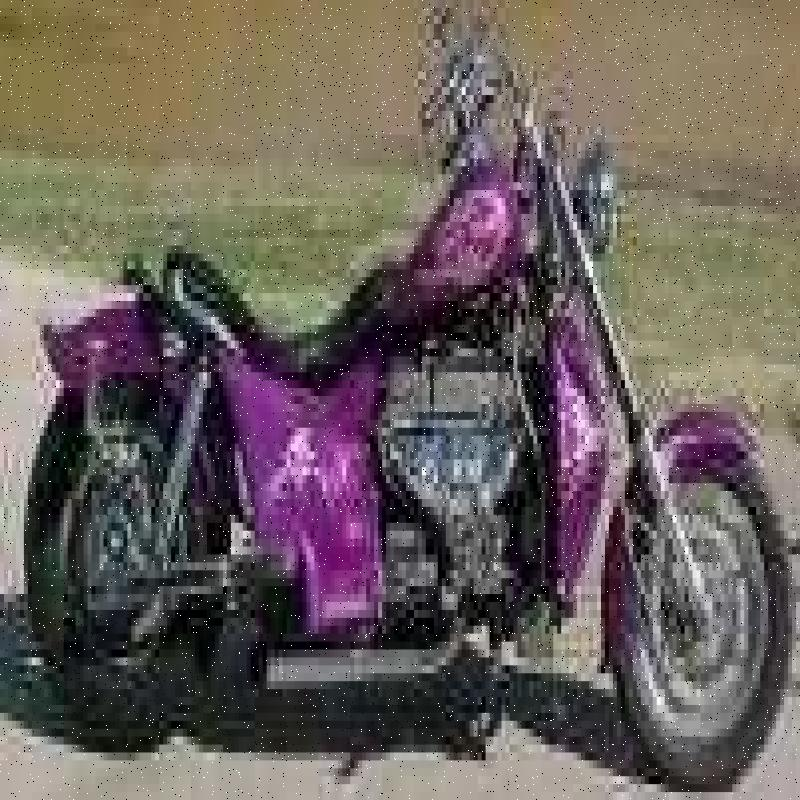bike: (33, 0, 785, 737)
